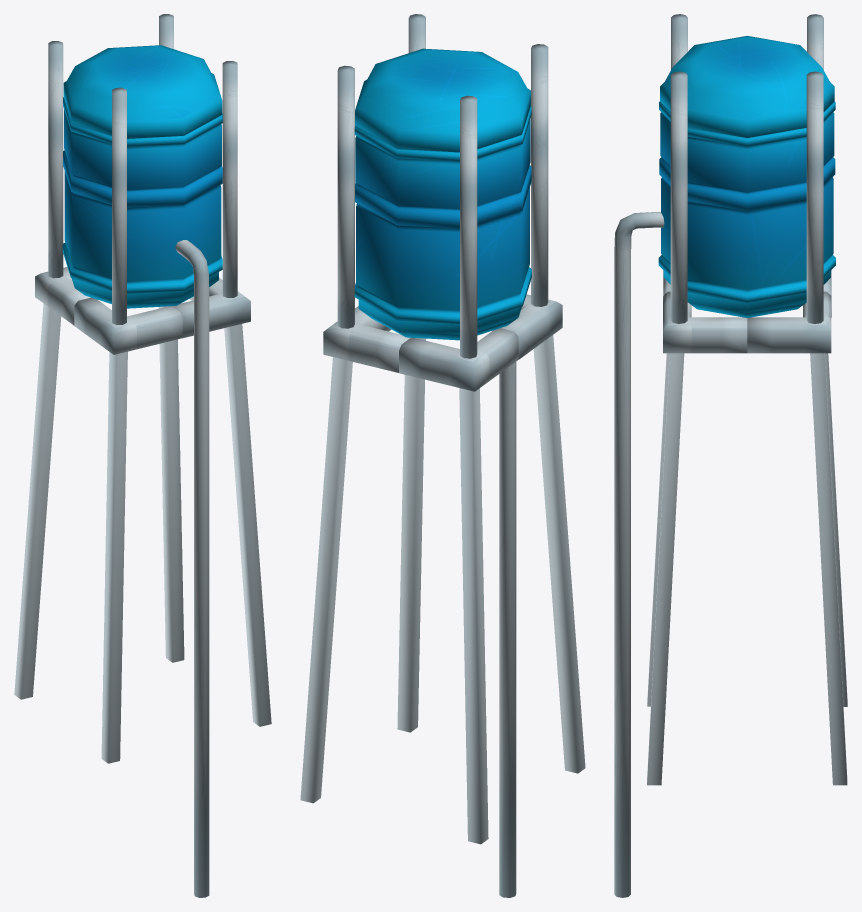
File: Water Storage.fbx
3 renders of one model, left to right at view 1: azimuth 30°, elevation 25°; view 2: azimuth 150°, elevation 25°; view 3: azimuth 270°, elevation 25°, orthographic. The views are drawn at different scales.
Visible parts, largest first — view 1: Water Storage, Cube, Water Storage Cage; view 2: Water Storage, Cube, Water Storage Cage; view 3: Water Storage, Cube, Water Storage Cage.
Part boxes in pixels (x1,y1,x2,y2): Water Storage: (62,45,222,897); Cube: (14,267,271,763); Water Storage Cage: (48,14,237,324); Water Storage: (354,48,531,897); Cube: (300,294,585,844); Water Storage Cage: (337,14,548,358); Water Storage: (614,36,835,897); Cube: (647,270,847,785); Water Storage Cage: (670,14,823,323).
Size of the model in its own units: 240 by 1119 by 279.
